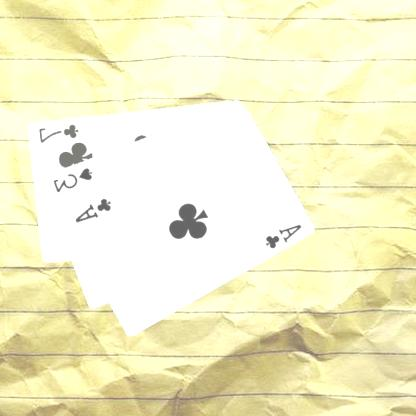3S: (51, 164, 96, 194)
7C: (37, 121, 81, 144)
AC: (264, 221, 304, 251), (74, 195, 114, 224)
